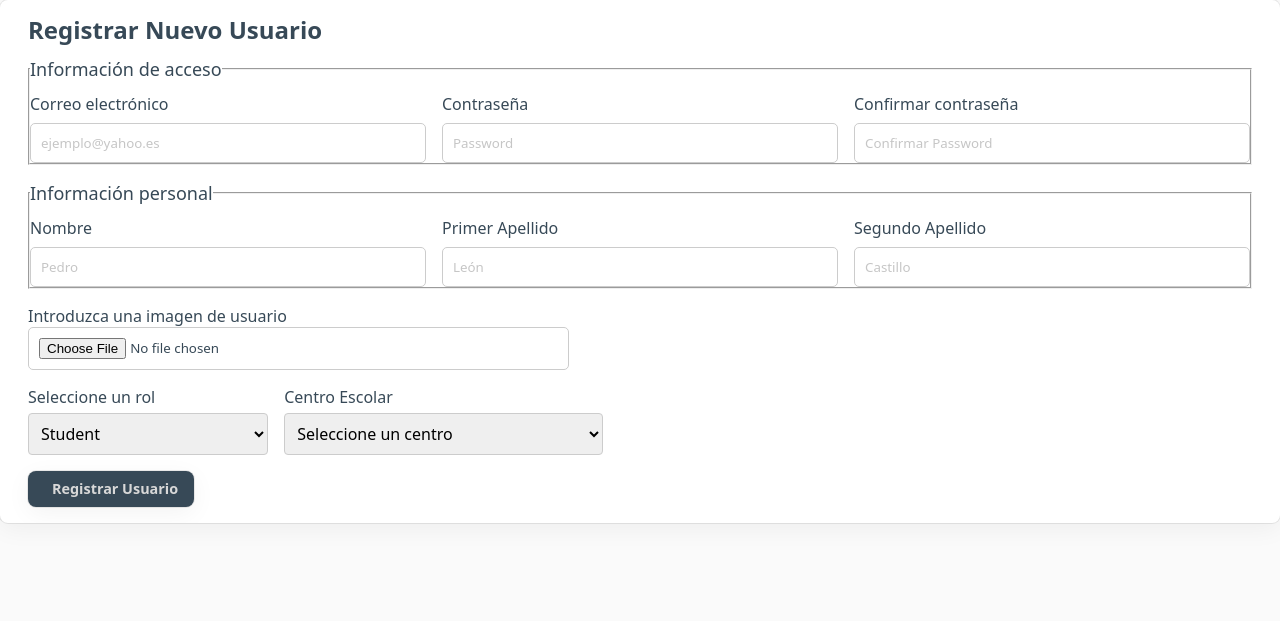
it: AddUsers Component › should raise error if the email is not provided
What coordinates should you click on to do the following:
click the button "Registrar Usuario"
I would click on:
 (111, 489)
Its box is [28,471,194,507].
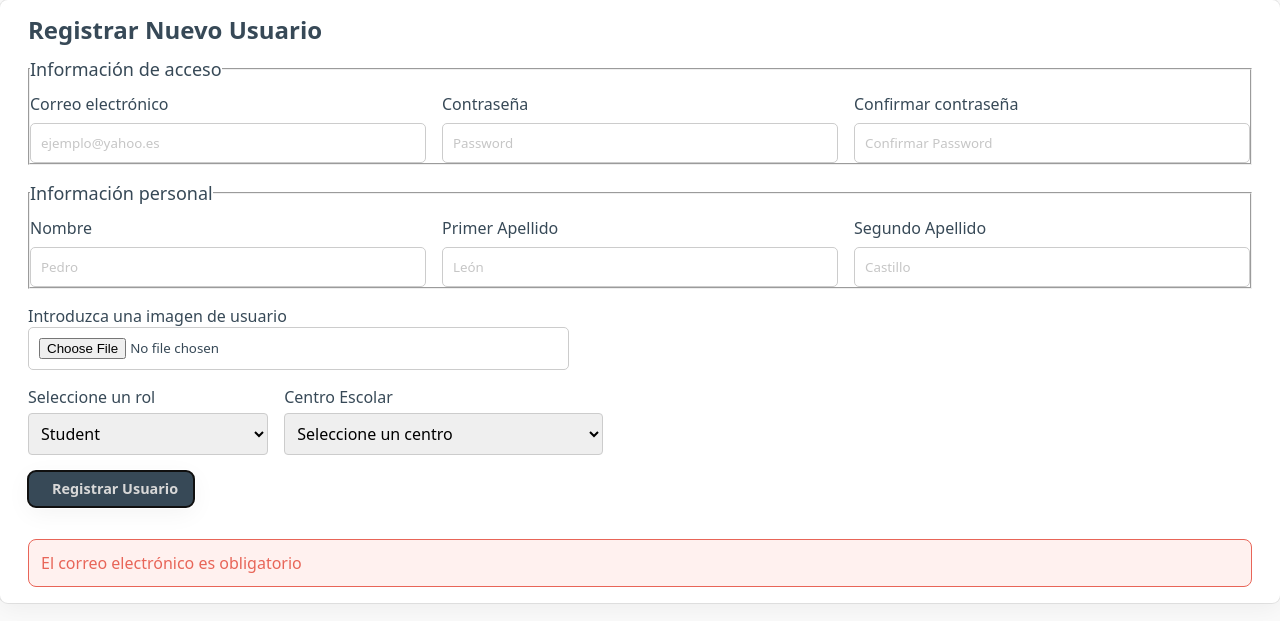
Expected: the message reads "El correo electrónico es obligatorio", [41,552,302,574]
